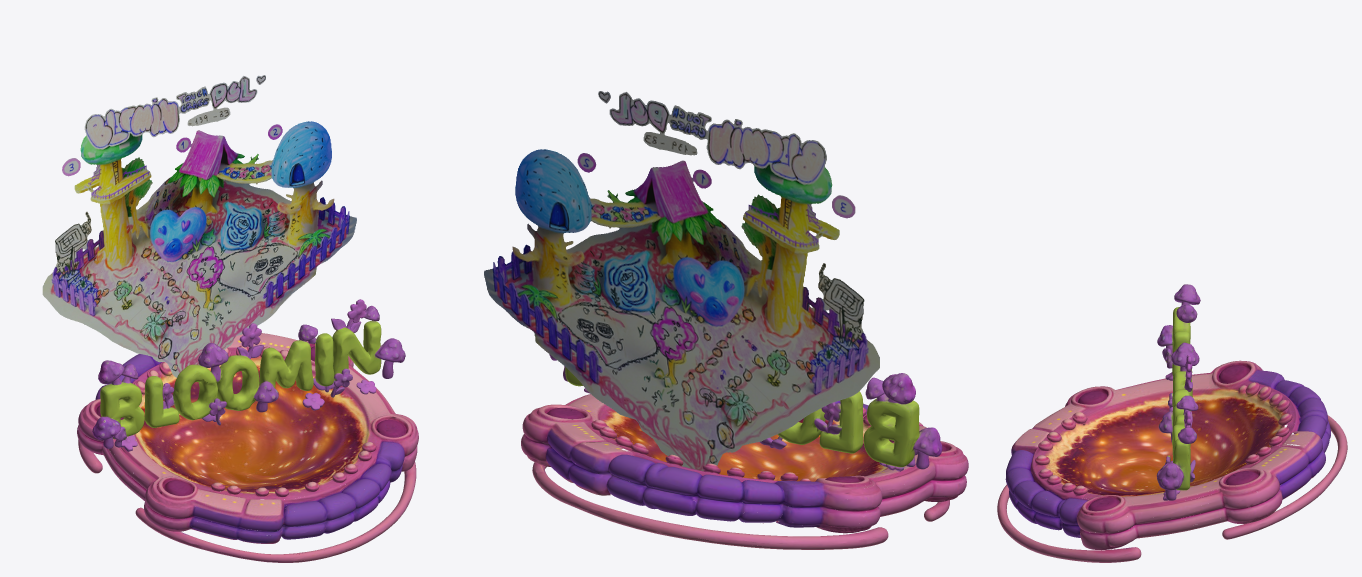
The model's file is BLOOMIN_portal_chiri.glb.
The picture shows the model from 3 angles, left to right: view 1: azimuth 30°, elevation 25°; view 2: azimuth 150°, elevation 25°; view 3: azimuth 270°, elevation 25°; orthographic projection. The views are drawn at different scales.
Visible parts, largest first — view 1: Bloomin_draft_transparent, Portal, Texto; view 2: Bloomin_draft_transparent, Portal, Texto; view 3: Portal, Texto.
Part boxes in pixels (x1,y1,x2,y2): Bloomin_draft_transparent: (42,75,356,377); Portal: (77,333,418,562); Texto: (92,299,405,451); Bloomin_draft_transparent: (484,91,879,471); Portal: (521,394,968,549); Texto: (549,354,942,471); Portal: (997,360,1347,562); Texto: (1156,284,1200,500).
Size of what is drawn, in the model's own units: 1.43 by 1.47 by 1.14.
Materials: 3 (3 with a texture image).
